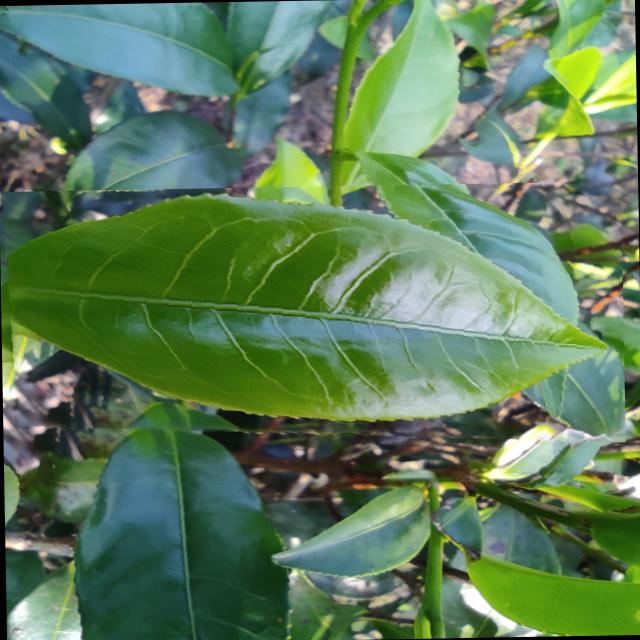Category B(2-4 days): (0, 180, 624, 453)
